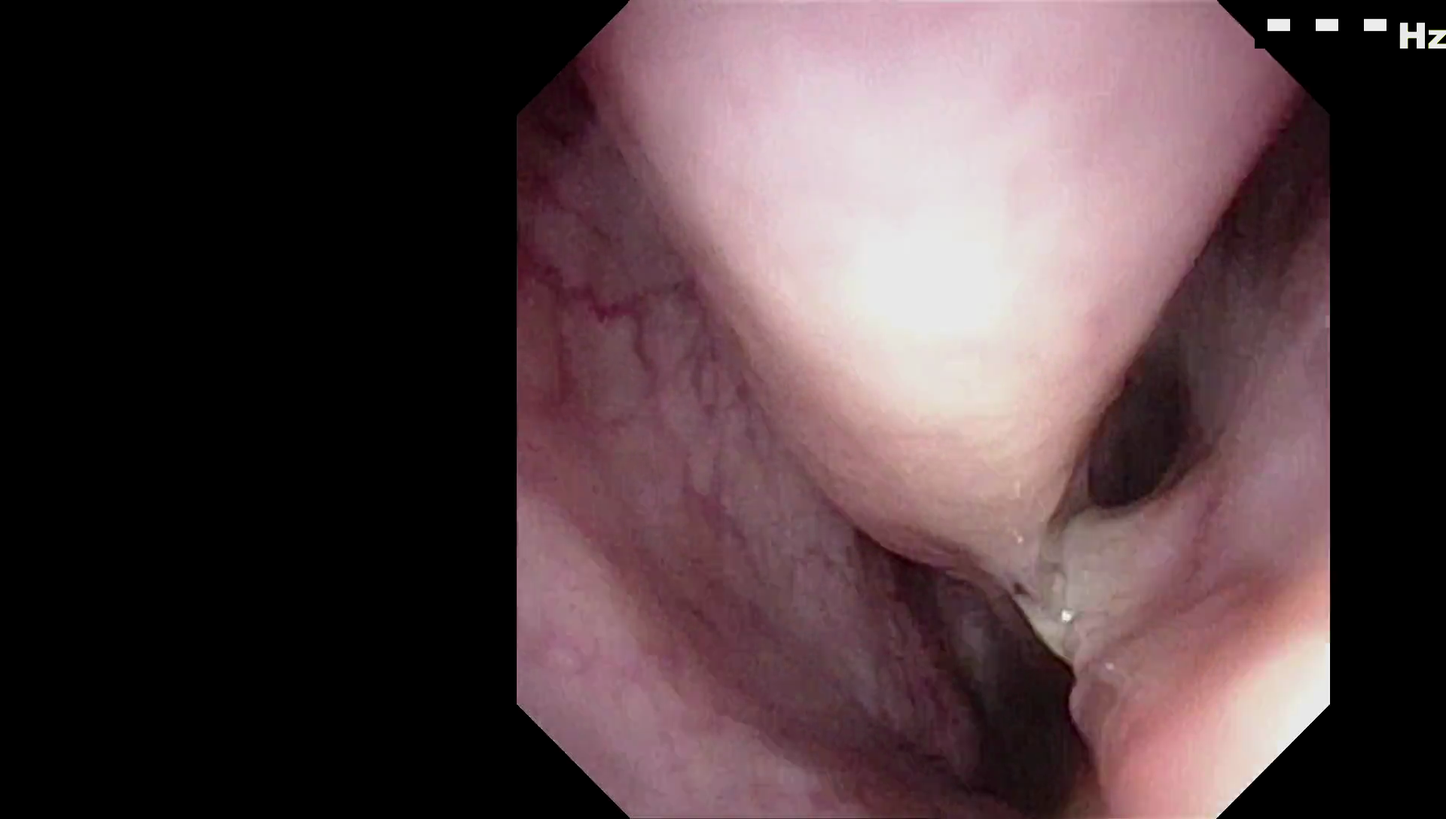close_wall: (673, 8, 1080, 452)
next: (912, 601, 1093, 819), (1068, 293, 1215, 528)
